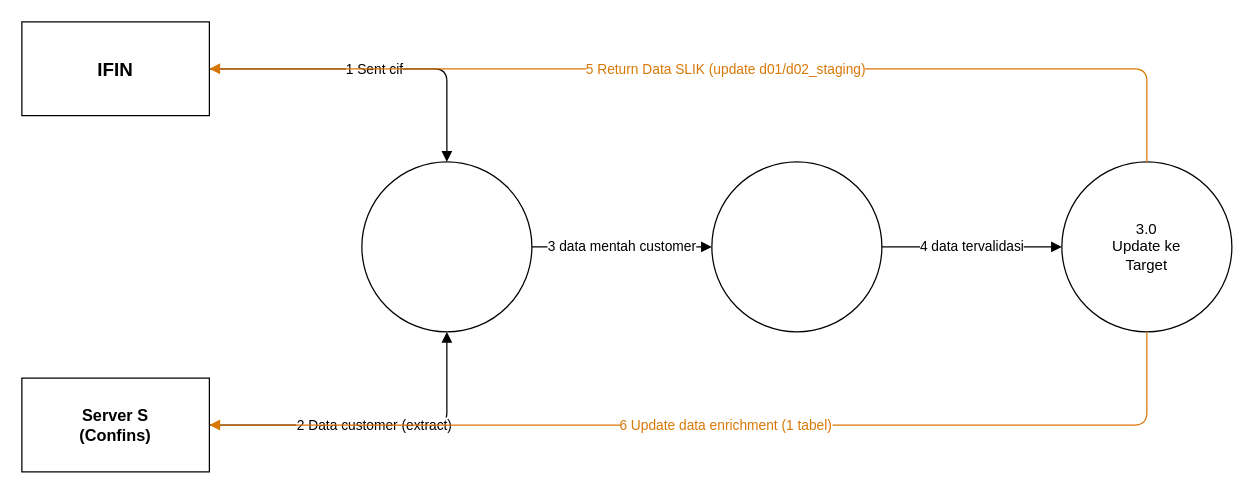
Some shapes in this 1254 by 494 pixel diagram are drawn without their labels. The box of each missing label's shape, as (x1, y1, x2, y2) in pixels:
1.0 Extract Data Customer: (361, 161, 532, 332)
2.0 Validasi & Enrichment: (711, 161, 882, 332)
